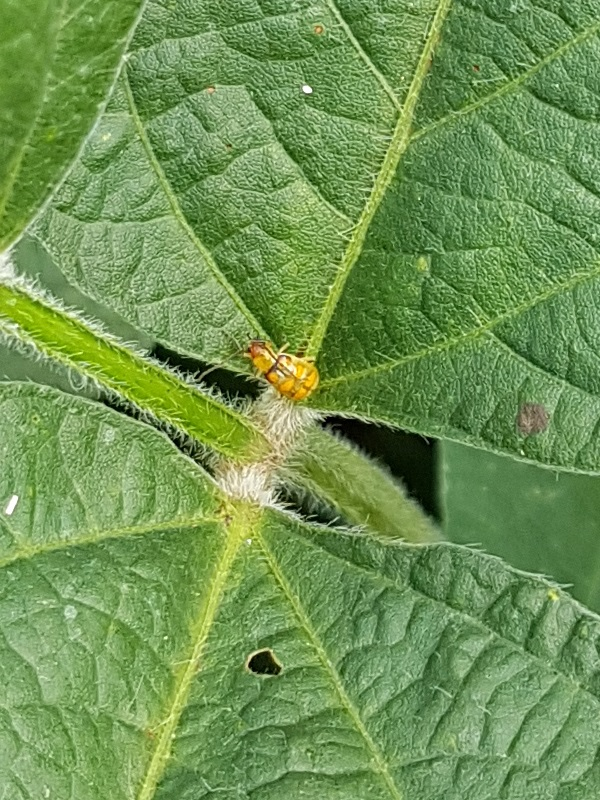Diabrotica_speciosa: (218, 316, 336, 425)
